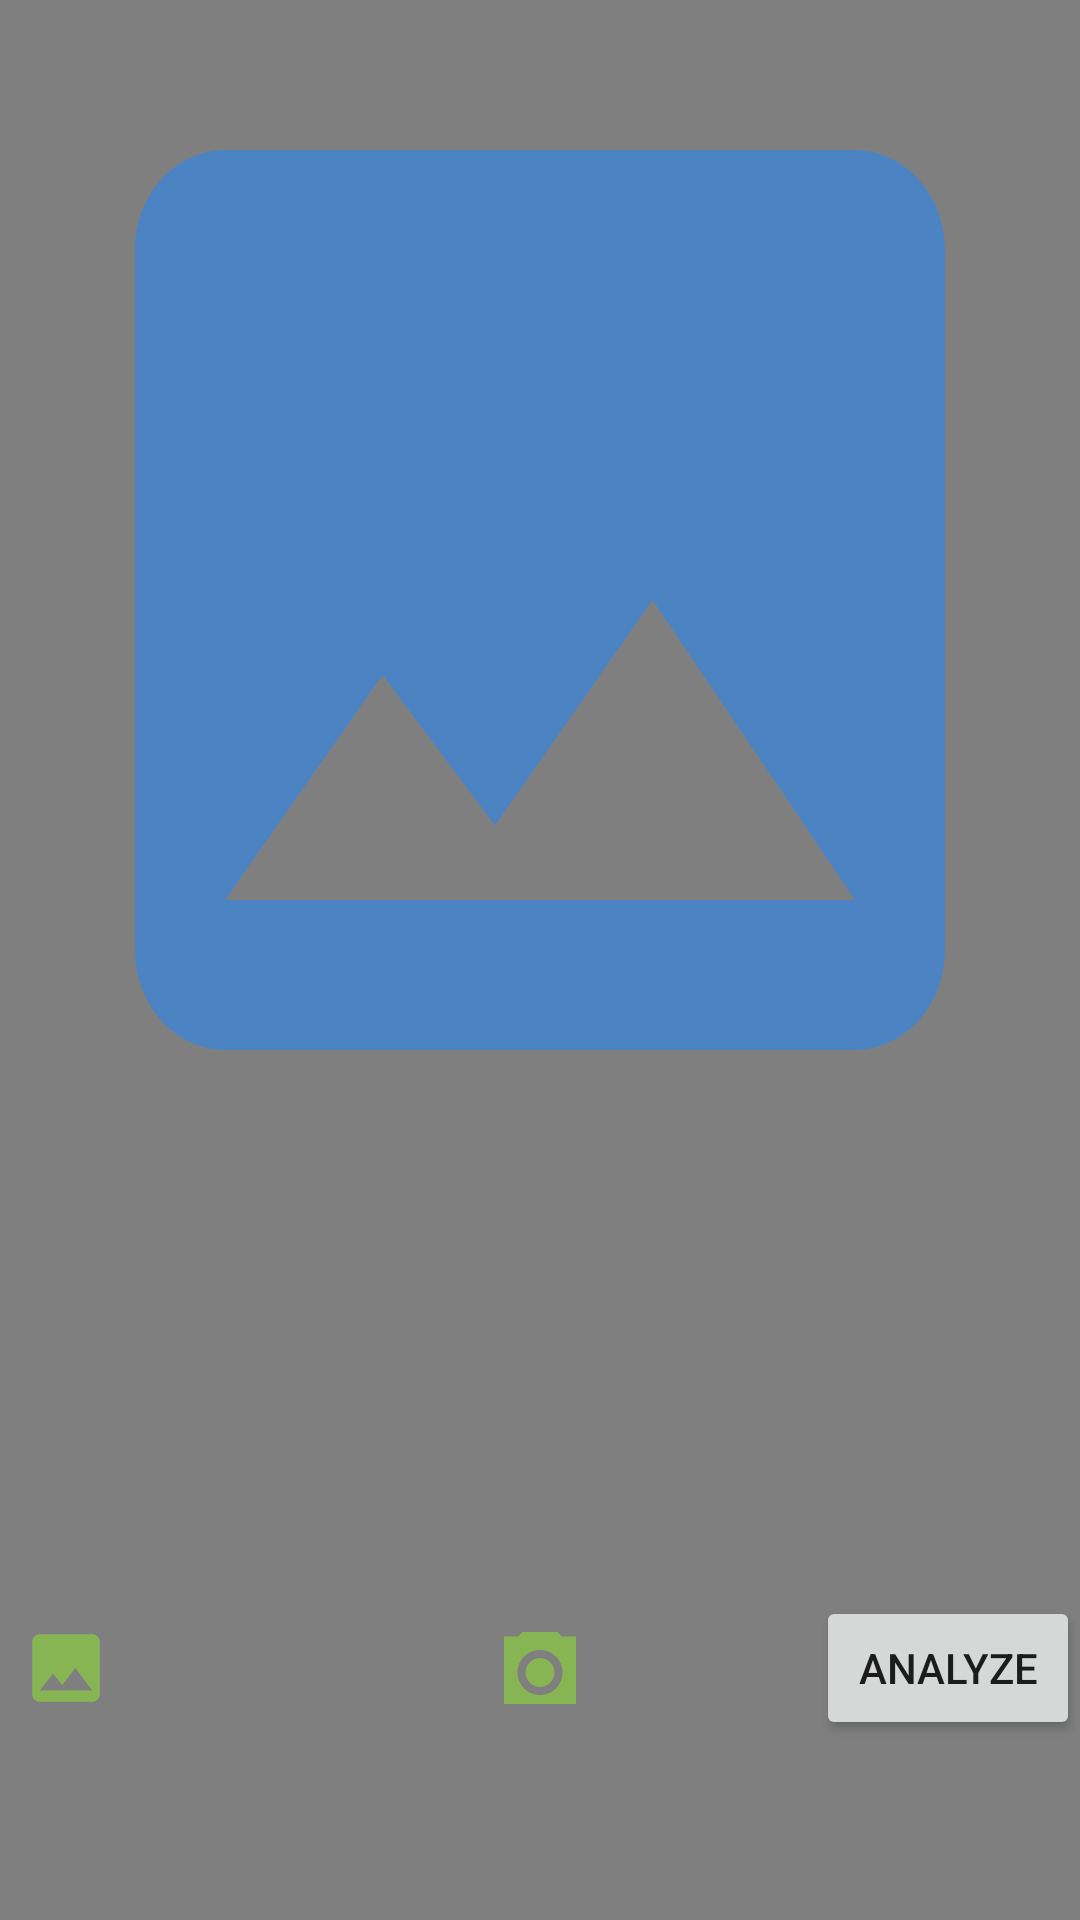

Icons on this 1080px x 1920px Android screen, each with its box as (x1, y1, x2, y2):
camerabtn: (504, 1632, 576, 1704)
gallerybtn: (32, 1634, 100, 1702)
